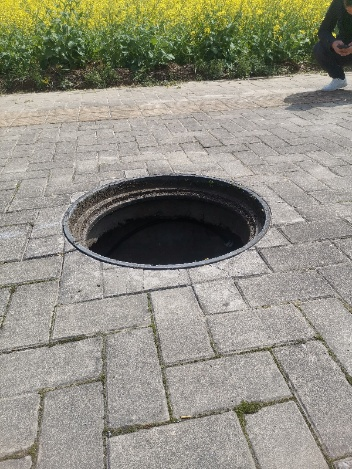well: (62, 174, 270, 271)
